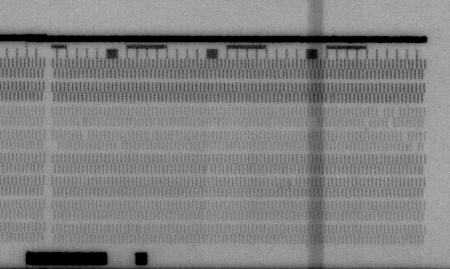Broken hole: (384, 117, 398, 129), (49, 140, 61, 152), (375, 107, 387, 119), (391, 106, 402, 119), (113, 141, 125, 152), (409, 141, 420, 153), (400, 130, 410, 143), (81, 129, 90, 143)
Oblique printing: (361, 117, 372, 132), (202, 165, 213, 176), (286, 177, 297, 188)
